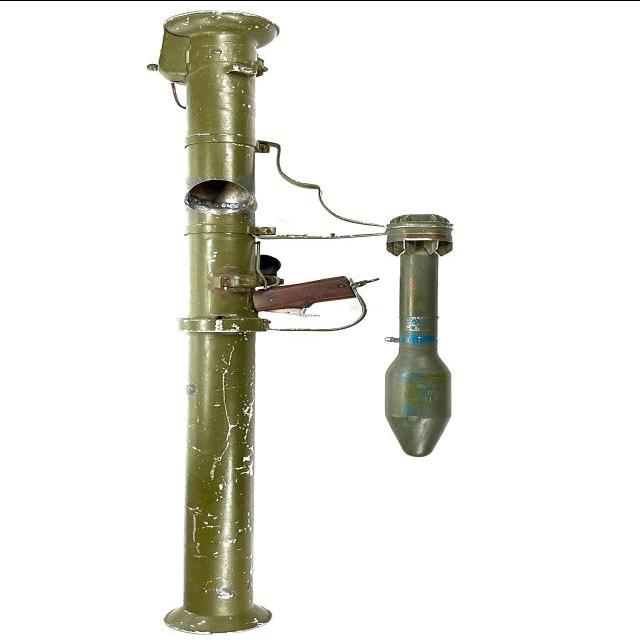rocket launcher: (153, 10, 367, 634)
